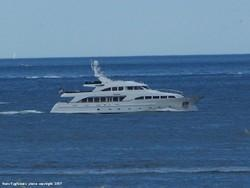yacht: (50, 58, 206, 114)
